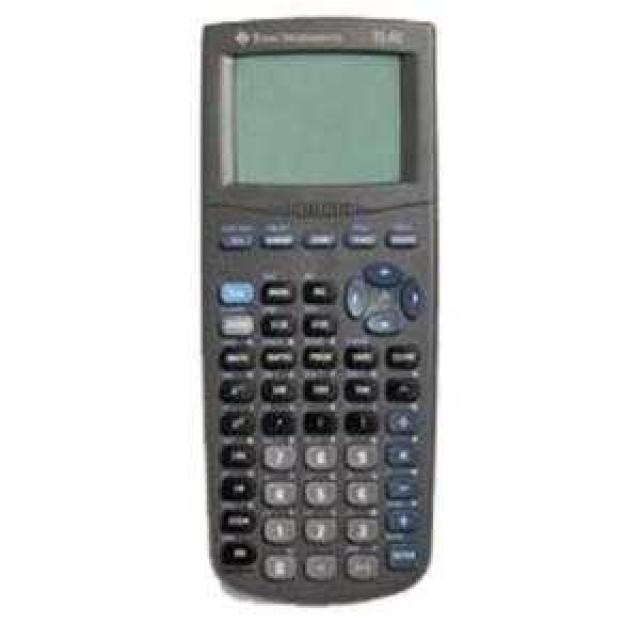Calculator: (201, 17, 433, 602)
